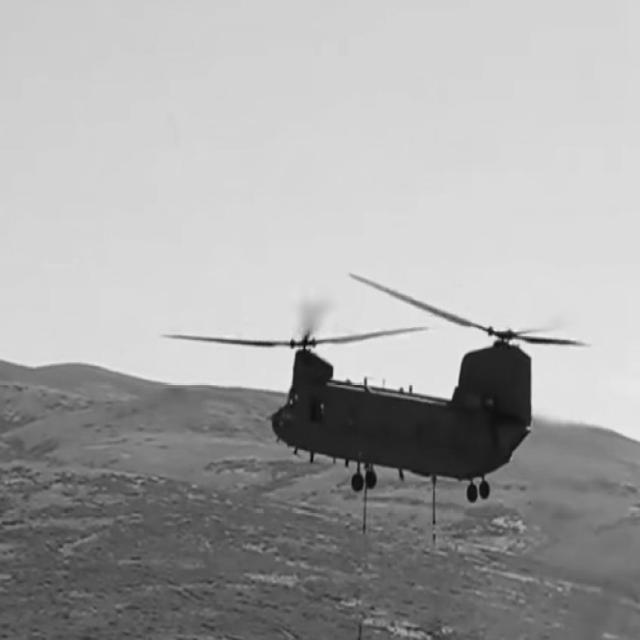Helicopter: (169, 275, 581, 501)
